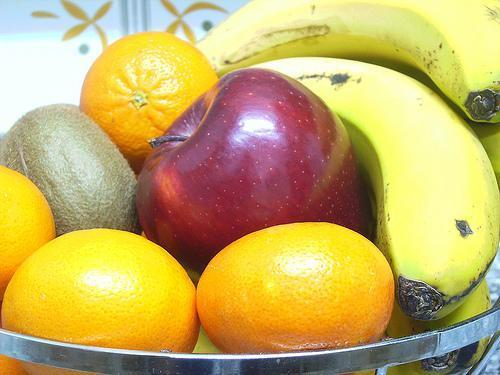apple: (136, 66, 377, 281)
banana: (195, 1, 500, 323)
orange: (194, 218, 398, 364), (1, 226, 199, 375), (80, 29, 225, 166)
